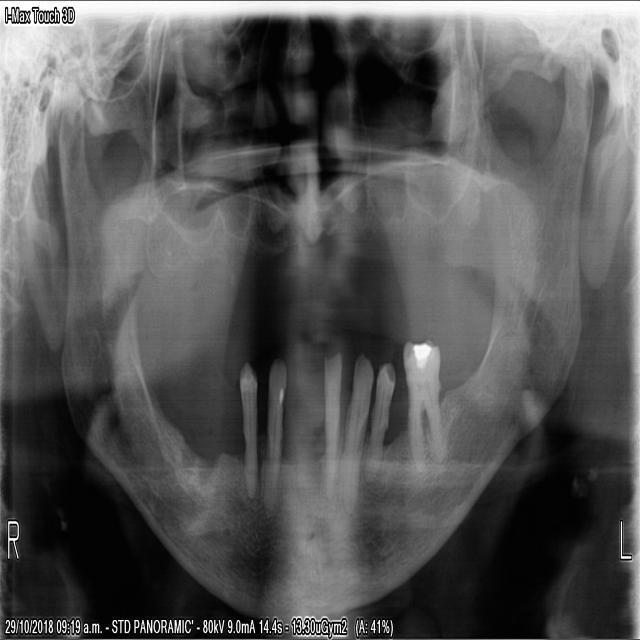LCD: (363, 352, 395, 484)
LID: (342, 351, 372, 495), (319, 345, 342, 505)
LPMD: (400, 334, 453, 478)
RCD: (235, 351, 259, 503)
RID: (259, 345, 285, 523)
